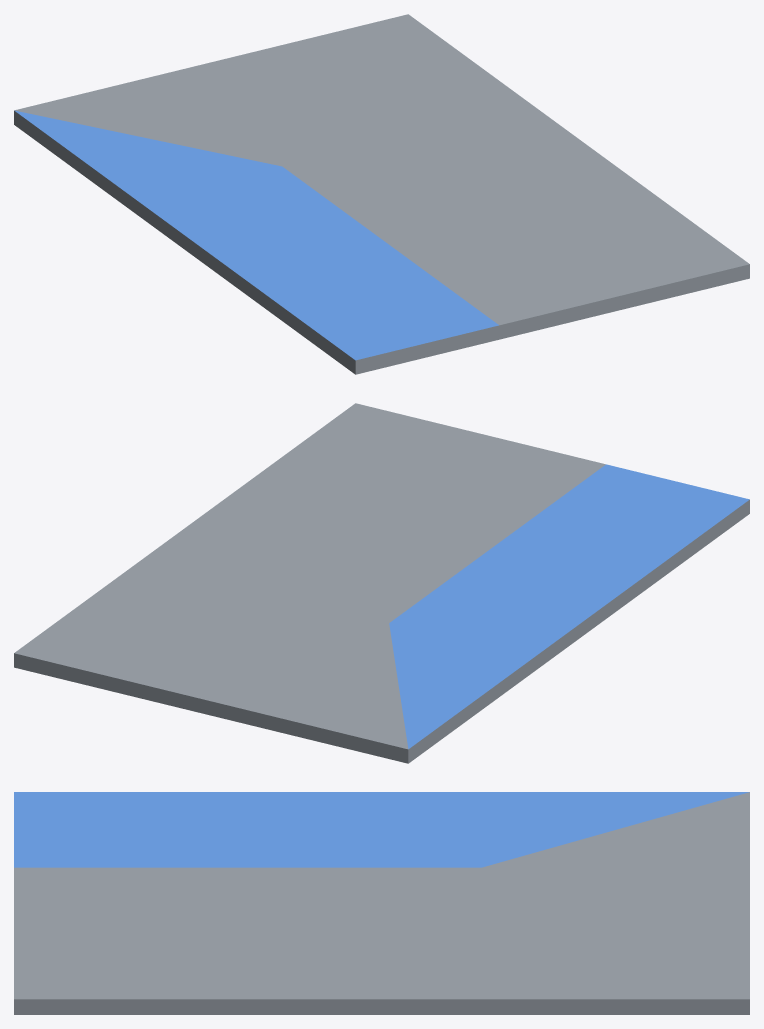
File: veyran_power_plant_foundation.glb
3 renders of one model, top to bottom at view 1: azimuth 30°, elevation 25°; view 2: azimuth 150°, elevation 25°; view 3: azimuth 270°, elevation 25°, orthographic. The views are drawn at different scales.
Visible parts, largest first — view 1: hull; view 2: hull; view 3: hull.
Boxes of the visible parts, x1=… form: hull: x1=14, y1=14, x2=749, y2=374; hull: x1=14, y1=403, x2=749, y2=763; hull: x1=14, y1=792, x2=749, y2=1014.
Bounding box in the file's own units: 7.2 × 0.25 × 10.8.
